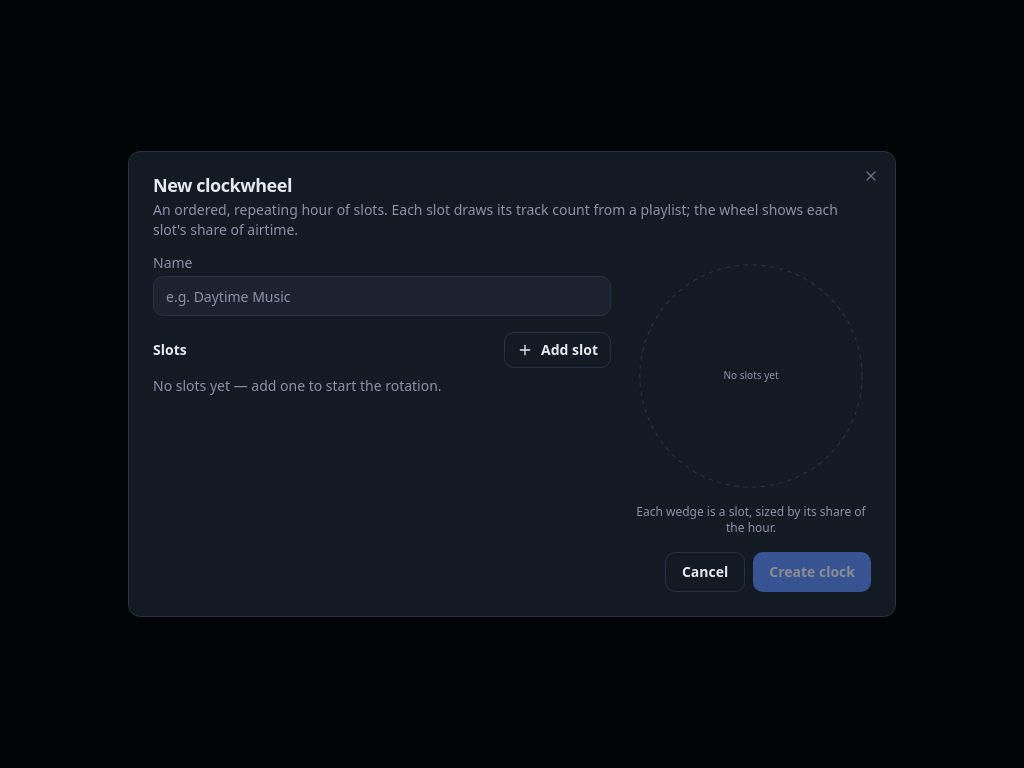
it: ClockwheelEditor (new) › keeps a slot's count at a floor of 1 and renders the wheel
Step 1. Click the button "Add slot" → click(558, 350), box [504,332,611,368]
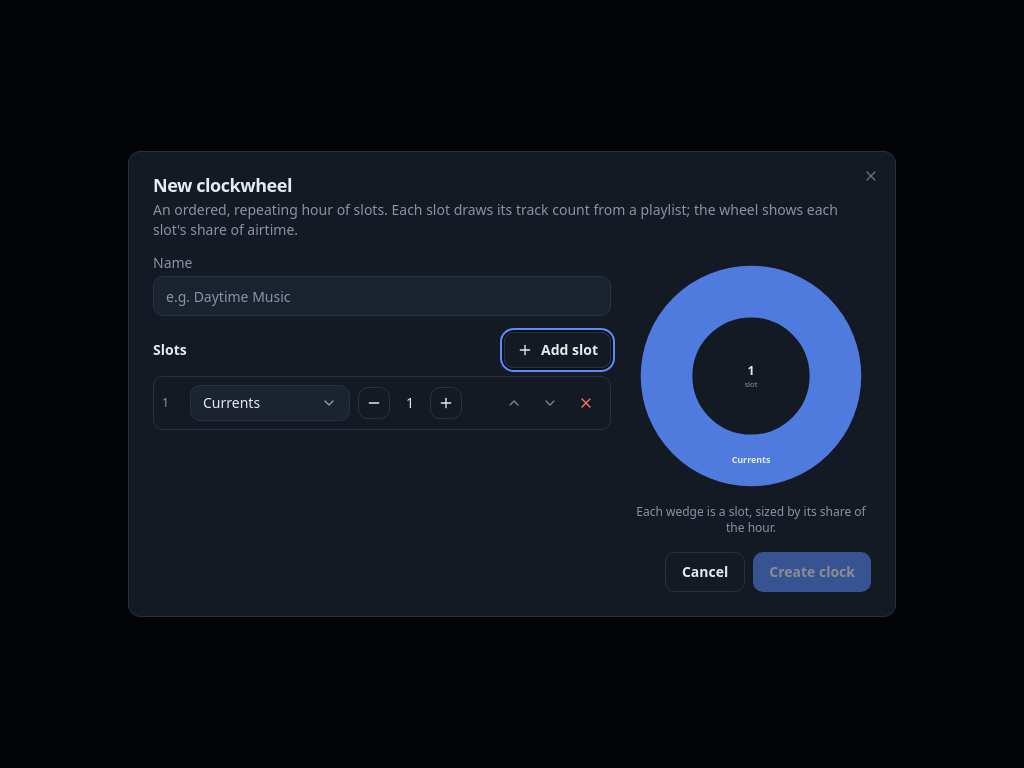
Step 2. Click the button named "slot 1 decrease" → click(374, 403), box [358,387,390,419]
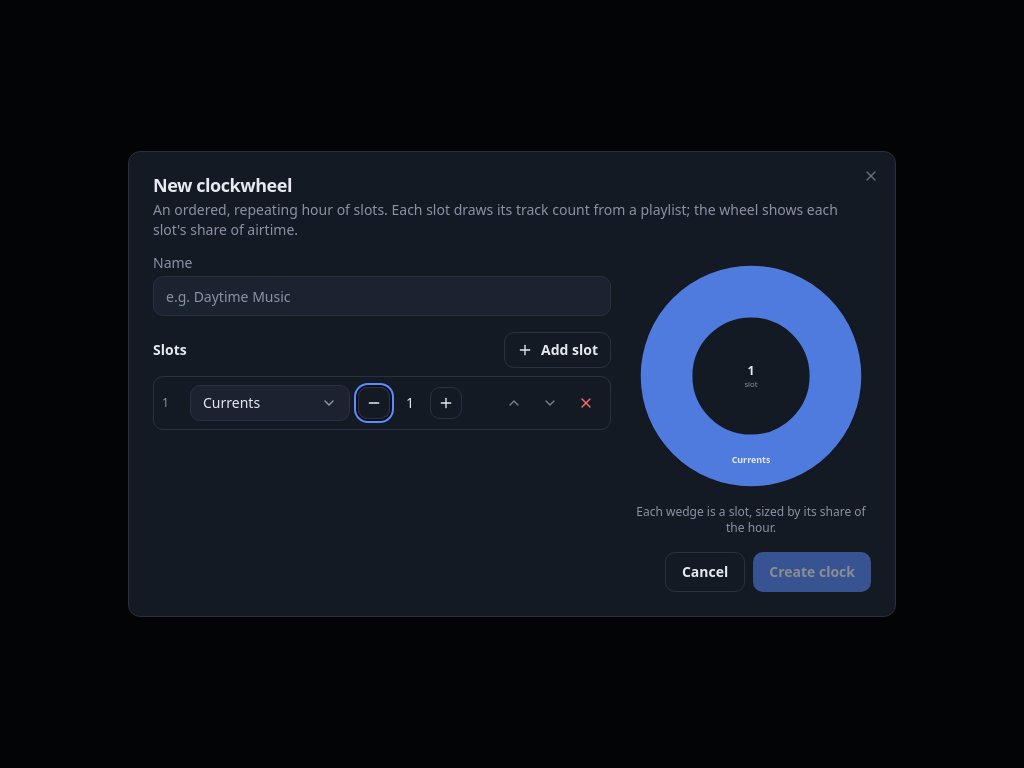
Check: the text named "slot 1 count" reads "1", box [406,393,414,412]
Step 3. Click the button named "slot 1 increase" → click(446, 403), box [430,387,462,419]
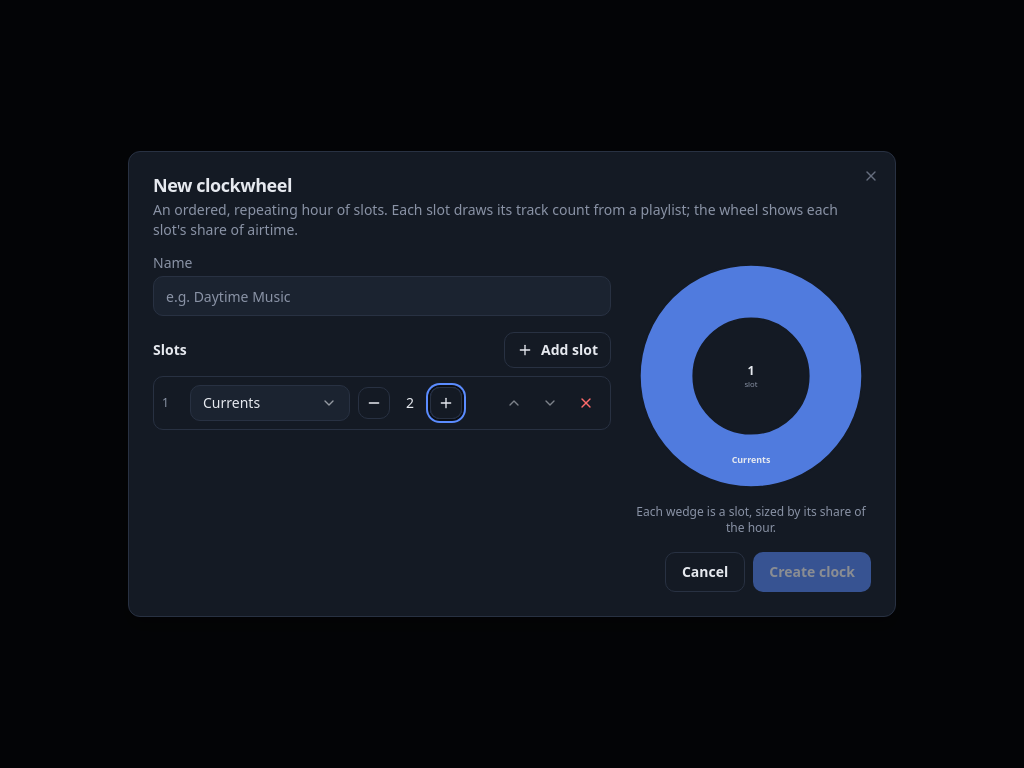
Check: the picture named "clockwheel" is shown, box [631,256,871,496]
Check: the text named "slot 1 count" reads "2", box [406,393,414,412]
